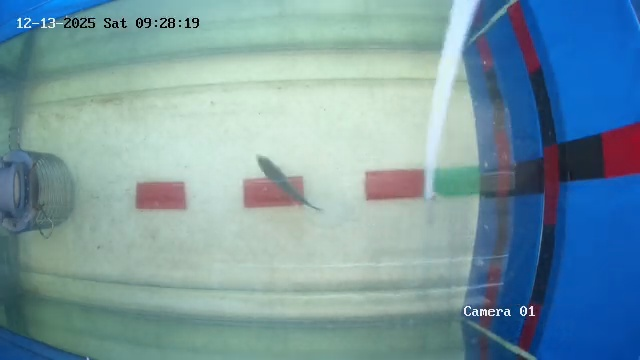fish: (262, 161, 329, 215)
